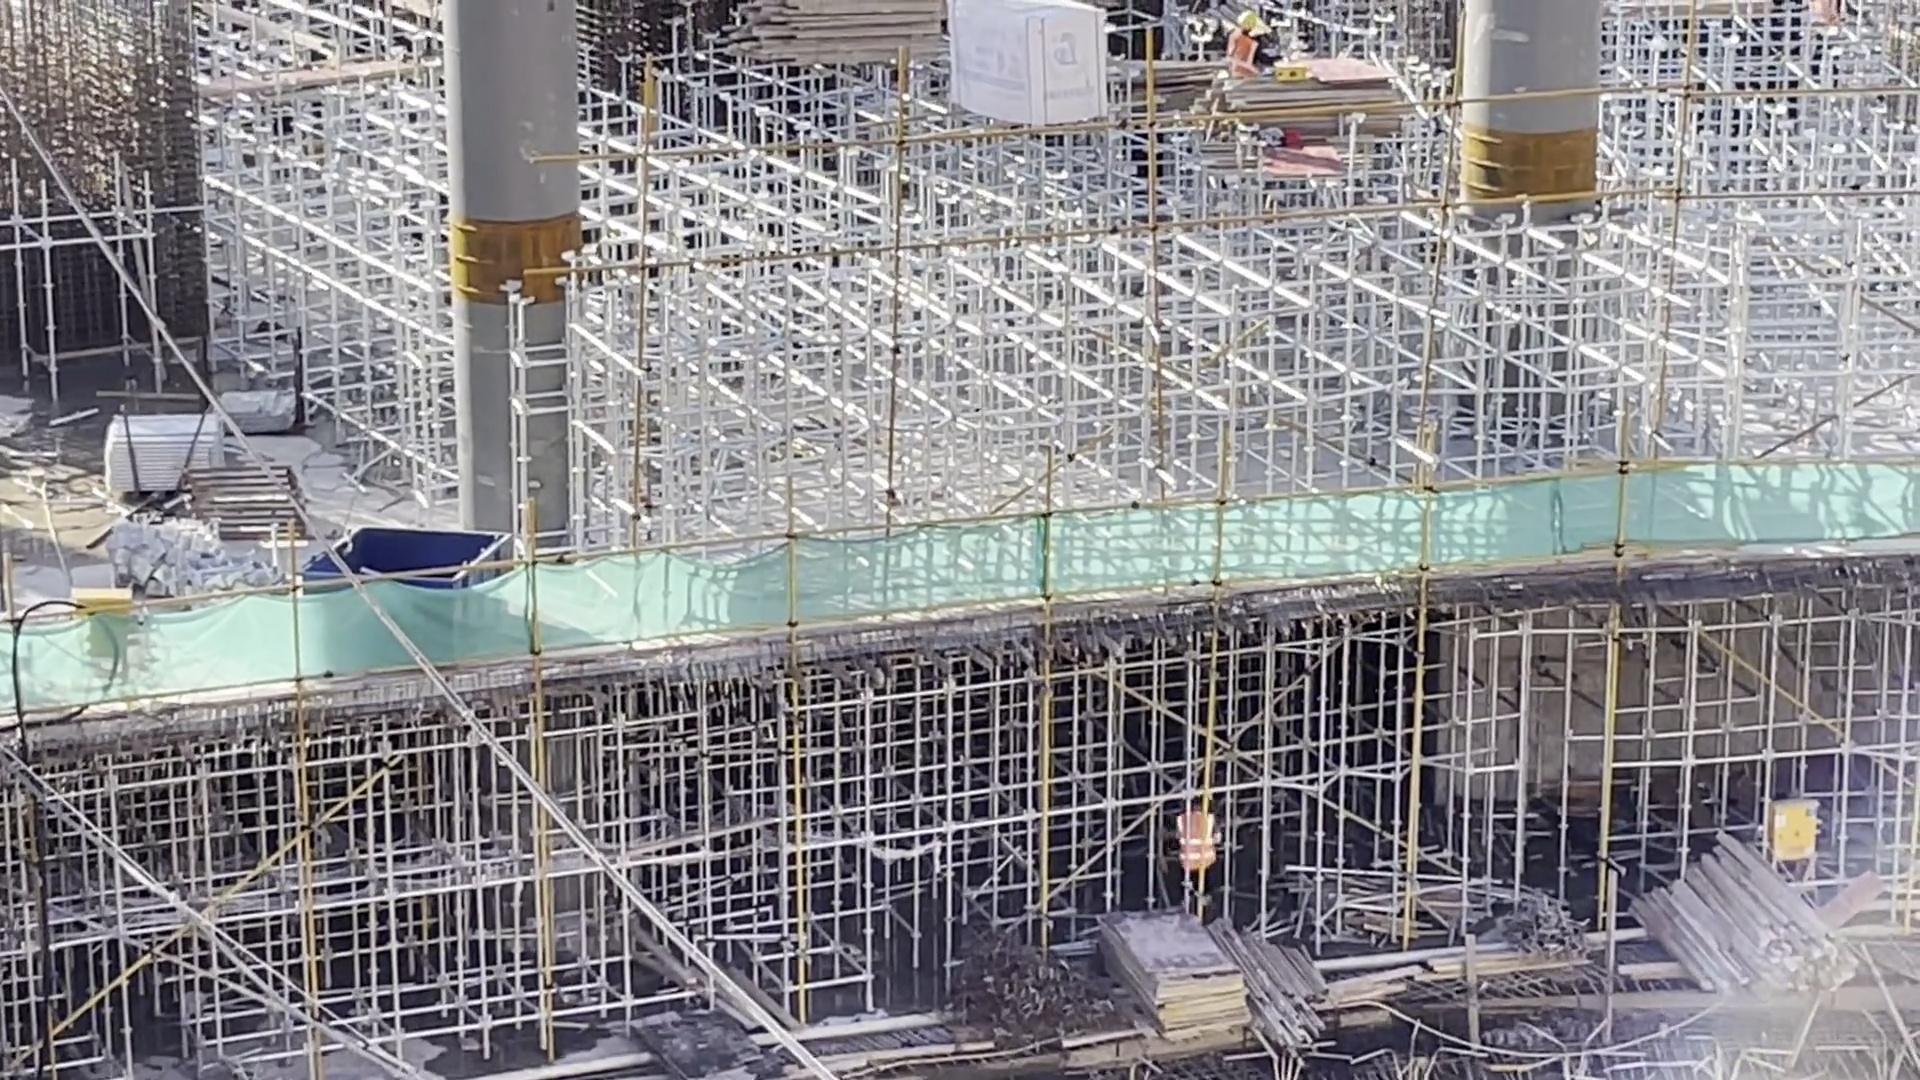board: (1089, 902, 1259, 1045), (1223, 50, 1419, 138)
ebox: (1762, 793, 1828, 867), (69, 585, 136, 609)
helmet: (1236, 12, 1259, 31)
hopper: (276, 523, 524, 564)
person: (1220, 12, 1275, 77)
scaffold: (97, 412, 237, 471)
vest: (1226, 34, 1262, 81)
wood: (1634, 832, 1869, 1005), (711, 5, 945, 69), (1259, 924, 1334, 1061)
